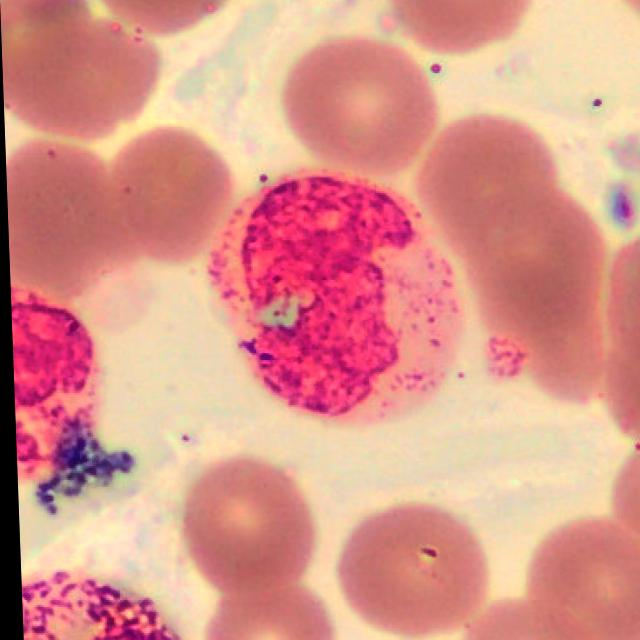Neutrofilo segmentado: (205, 170, 464, 426)
